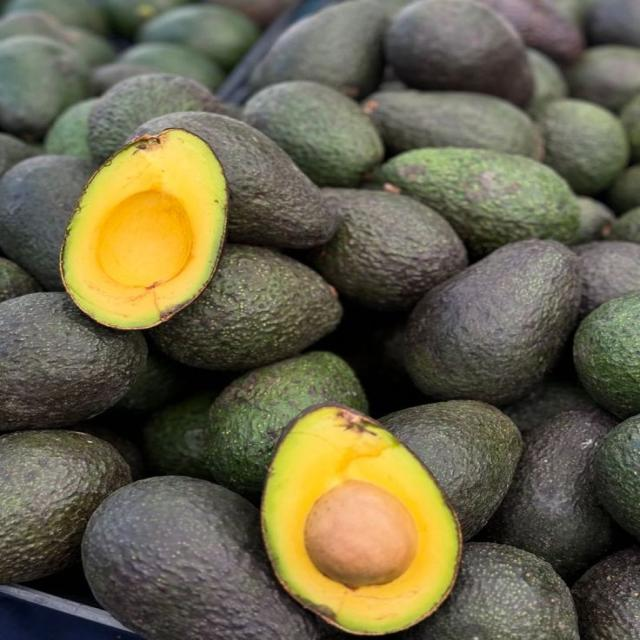avocado: (262, 403, 461, 635), (82, 476, 317, 639), (60, 129, 228, 329), (405, 240, 580, 405), (134, 112, 339, 248), (150, 245, 342, 370), (482, 407, 616, 579), (207, 352, 367, 493), (376, 148, 579, 256), (0, 293, 146, 431), (0, 430, 131, 582), (380, 400, 522, 539), (312, 189, 467, 310), (406, 542, 579, 639), (385, 0, 533, 106), (243, 81, 384, 187), (251, 0, 386, 98), (0, 156, 93, 290), (364, 90, 543, 159), (88, 74, 225, 162), (0, 36, 90, 139), (535, 99, 629, 195), (574, 293, 639, 418), (138, 5, 259, 70), (480, 0, 584, 63), (142, 391, 215, 479), (0, 11, 115, 66), (573, 547, 639, 639), (594, 416, 639, 538), (501, 375, 595, 431), (118, 42, 224, 90), (573, 241, 639, 317), (116, 352, 193, 413), (74, 414, 145, 480), (568, 45, 639, 111), (5, 0, 107, 34), (101, 0, 188, 38), (45, 99, 98, 160), (527, 49, 568, 113), (587, 0, 639, 47), (216, 0, 294, 27), (62, 28, 115, 67), (92, 62, 155, 94), (575, 197, 615, 244), (0, 257, 41, 301), (0, 11, 64, 39), (607, 164, 639, 214), (0, 133, 36, 176), (620, 94, 639, 162), (553, 0, 594, 31), (608, 206, 639, 242)
